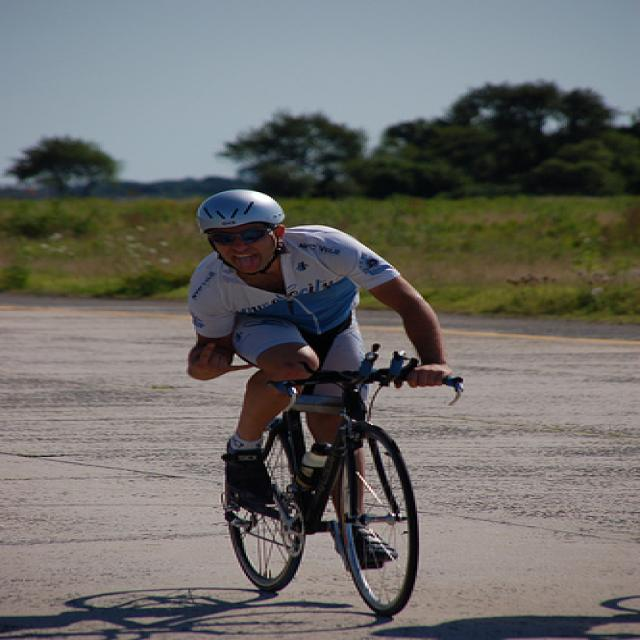bicycle: (220, 357, 466, 617)
person: (187, 190, 449, 567)
